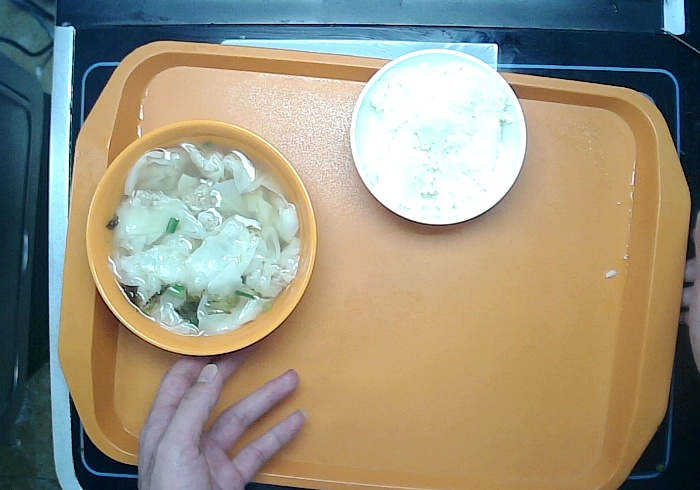NLDX-Fan_Wan: (344, 43, 530, 233)
NLDX-Hun_Tun_Wan: (81, 115, 321, 361)
